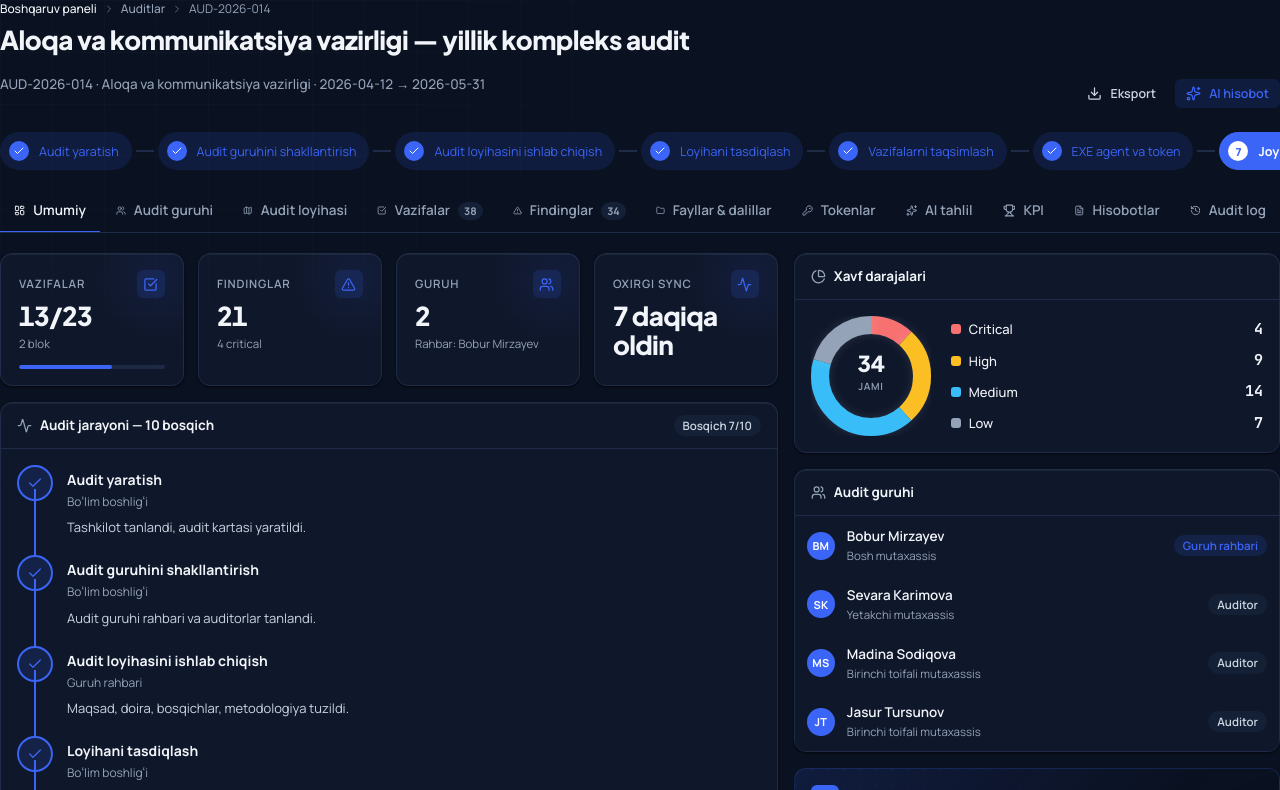
AuditDetailScreen › switches to a not-yet-built tab placeholder
Click the tab "Audit log" at (1228, 212), box [1176,190,1279,233]
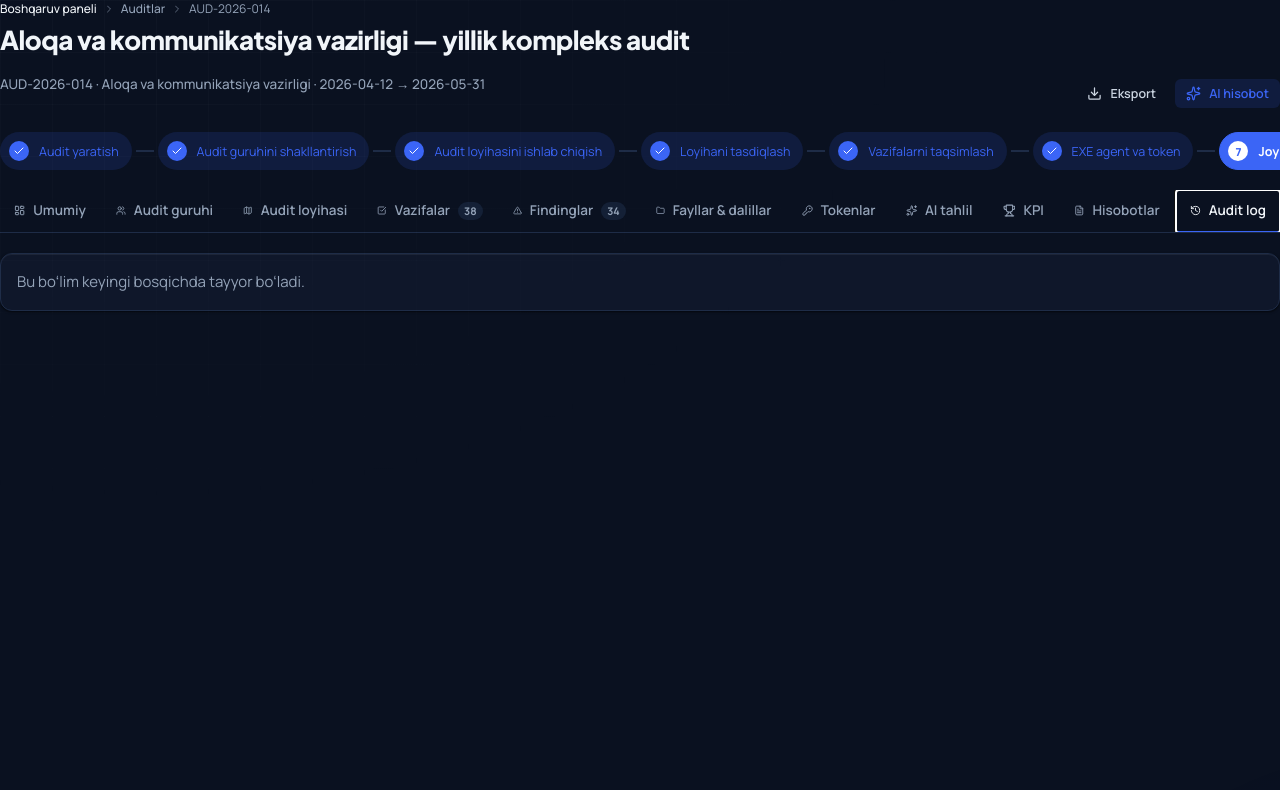
Result: the text "Bu boʻlim keyingi bosqichda tayyor boʻladi." is shown at [17,271,305,292]
